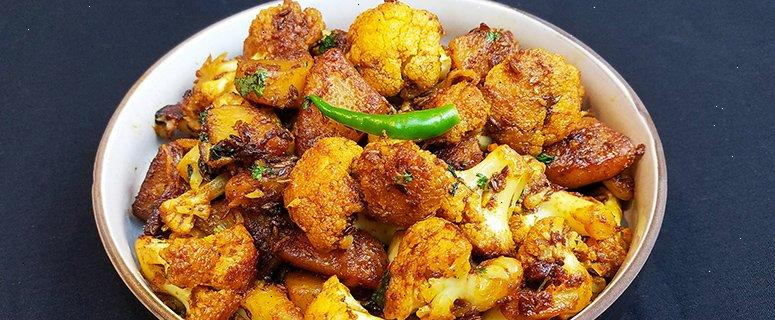aloo gobhi: (120, 2, 638, 320)
